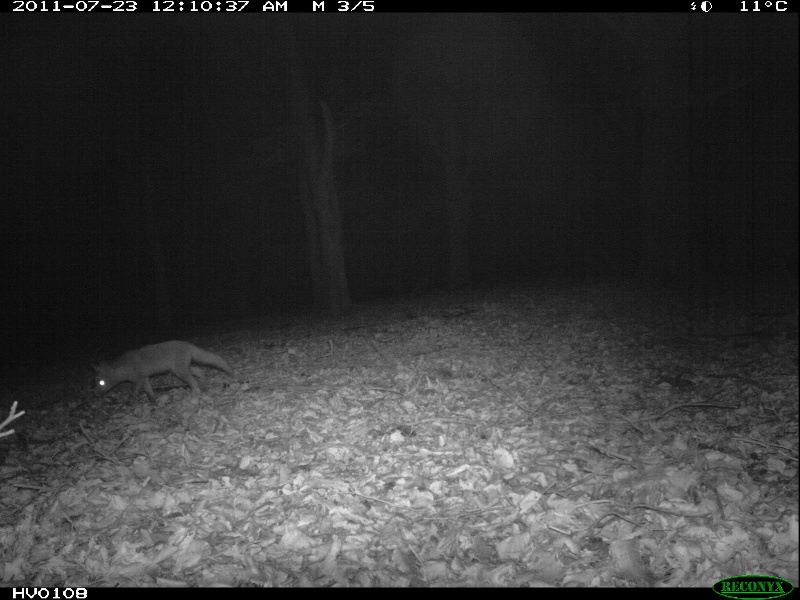fox: (90, 336, 237, 406)
